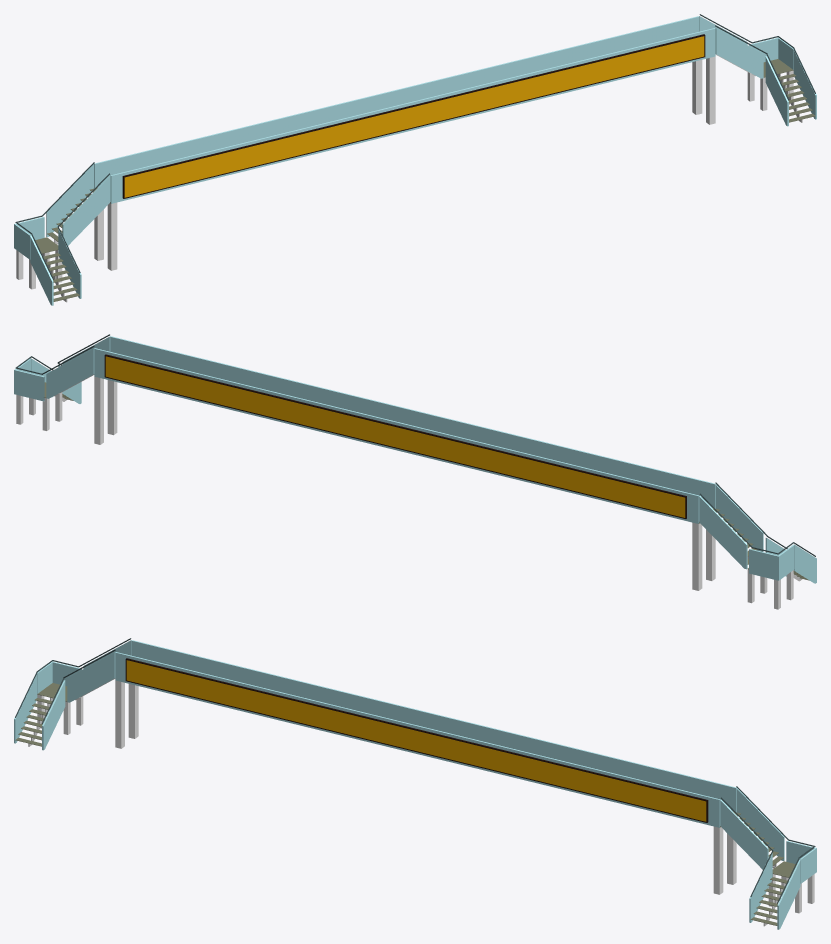
The model's file is Race_Bridge_3_2.fbx.
3 renders of one model, top to bottom at view 1: azimuth 30°, elevation 25°; view 2: azimuth 150°, elevation 25°; view 3: azimuth 330°, elevation 25°, orthographic.
Parts seen in each view (by area): view 1: Race_Bridge_3_2; view 2: Race_Bridge_3_2; view 3: Race_Bridge_3_2.
Boxes of the visible parts, left/top/right/bottom form: Race_Bridge_3_2: left=14, top=14, right=816, bottom=305; Race_Bridge_3_2: left=14, top=334, right=816, bottom=609; Race_Bridge_3_2: left=14, top=638, right=816, bottom=929.
Size of the model in its own units: 4302 by 522 by 383.
